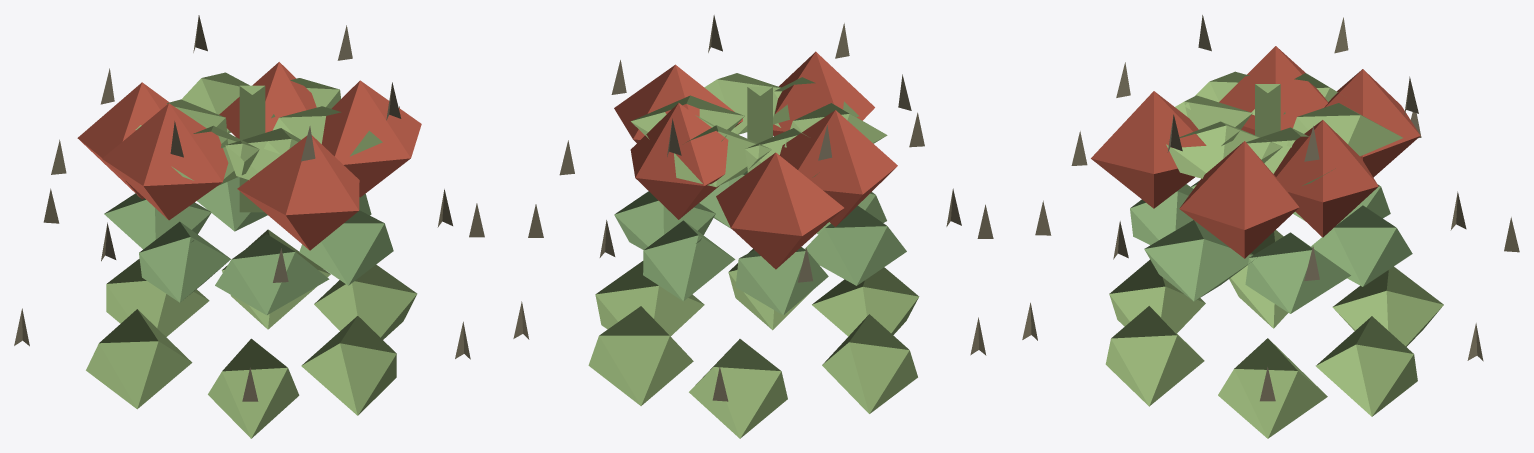
Rendered from cao.shamo@fruiting__spring.glb.
3 views of the same model, side by side, from view 1: azimuth 30°, elevation 25°; view 2: azimuth 150°, elevation 25°; view 3: azimuth 270°, elevation 25° (orthographic).
Visible parts, largest first — view 1: cao.shamo@fruiting__spring; view 2: cao.shamo@fruiting__spring; view 3: cao.shamo@fruiting__spring.
Part boxes in pixels (<box>): cao.shamo@fruiting__spring: <box>14,15,484,438</box>; cao.shamo@fruiting__spring: <box>513,15,993,438</box>; cao.shamo@fruiting__spring: <box>1022,15,1519,438</box>.
Bounding box in the file's own units: 1.8 × 1.16 × 1.66.
